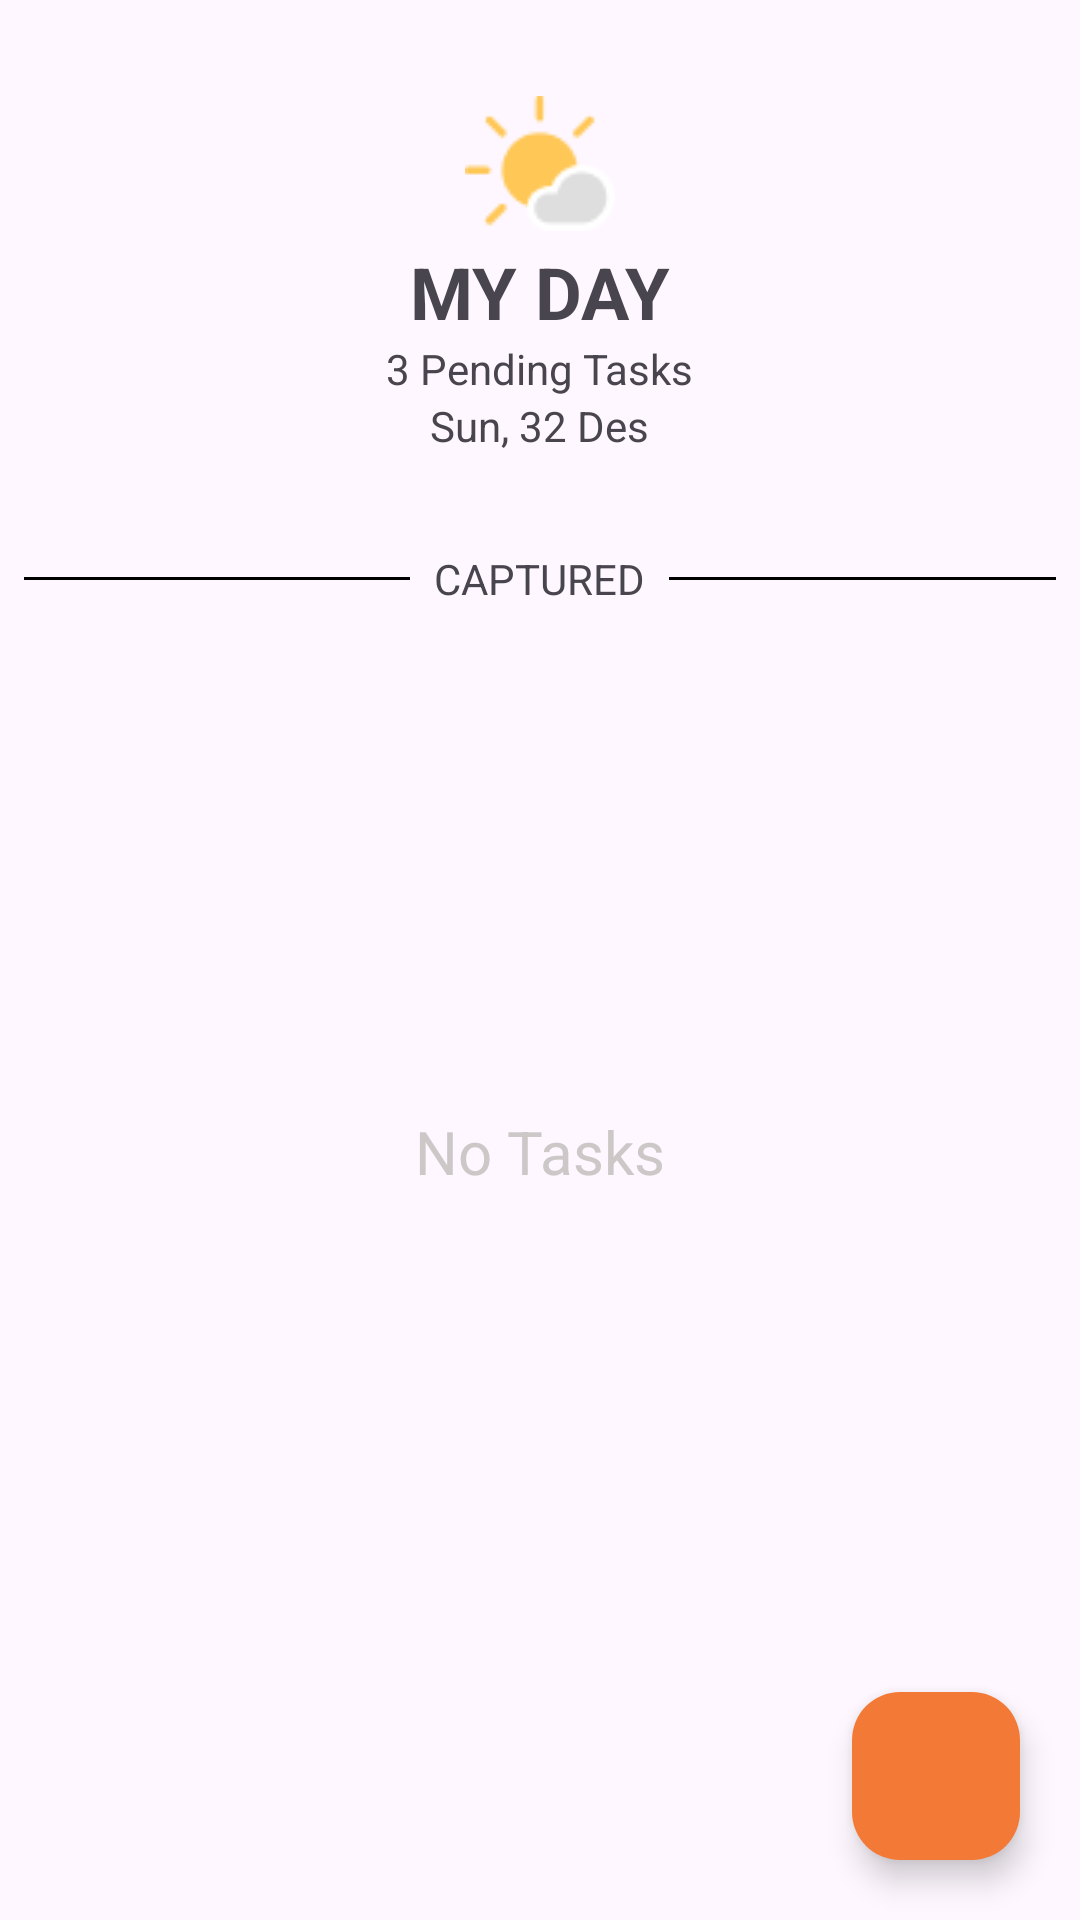

Icons on this 1080 × 1920 Android screen, each with its box as detection(x1, y1, x2, y2):
sun cloud: detection(465, 96, 606, 226)
